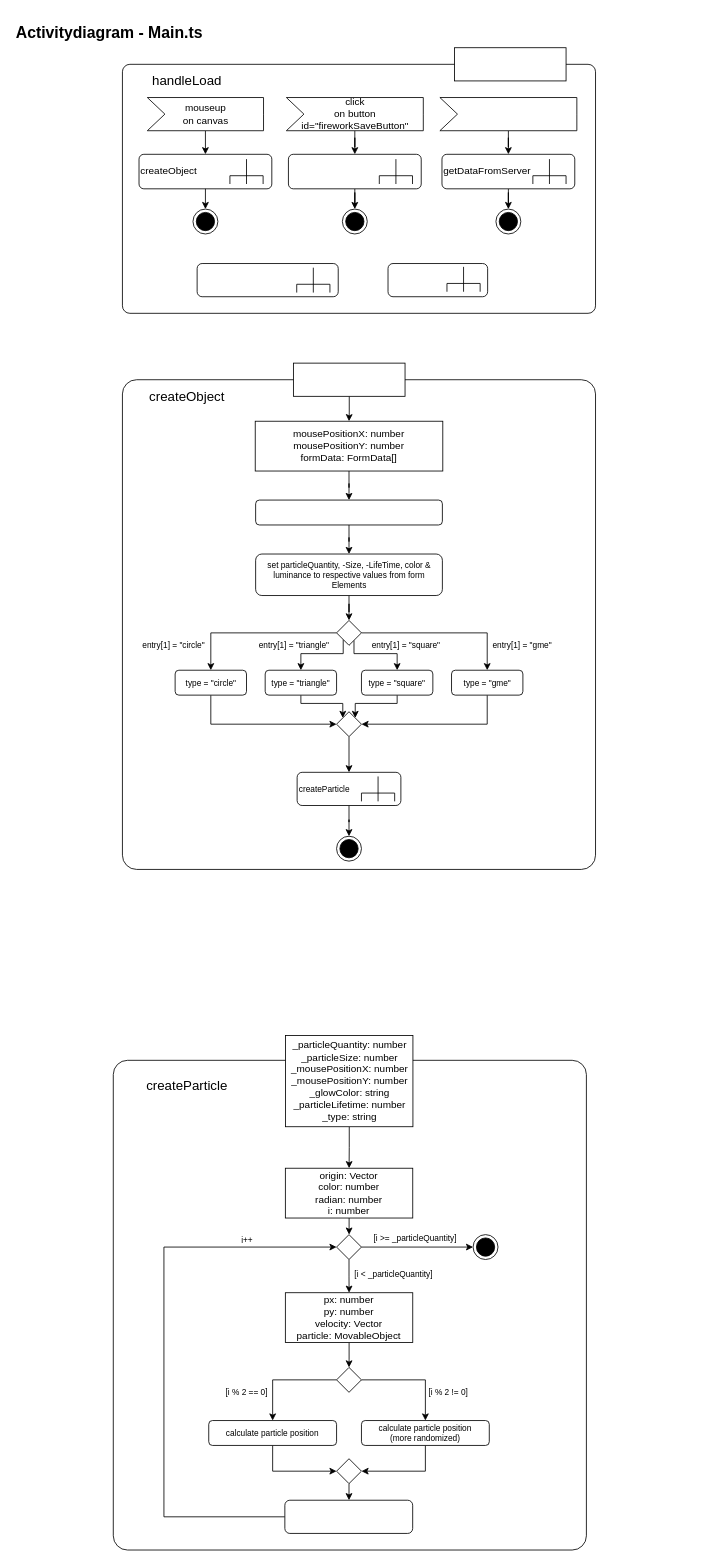
This 701x1565 diagram has some shape labels left out. The centre of each missing label's shape, as x and y in pixels:
_event: Event: [510,64]
_event: MouseEvent: [349,379]
click on button id="fireworkLoadButton": [508,114]
generateContent: [267,280]
get data from all form HTML Elements: [348,512]
sendDataToServer: [354,171]
update: [437,280]
velocity = new Velocity(px, py) particle = new Particle movables.push(particle): [348,1516]
